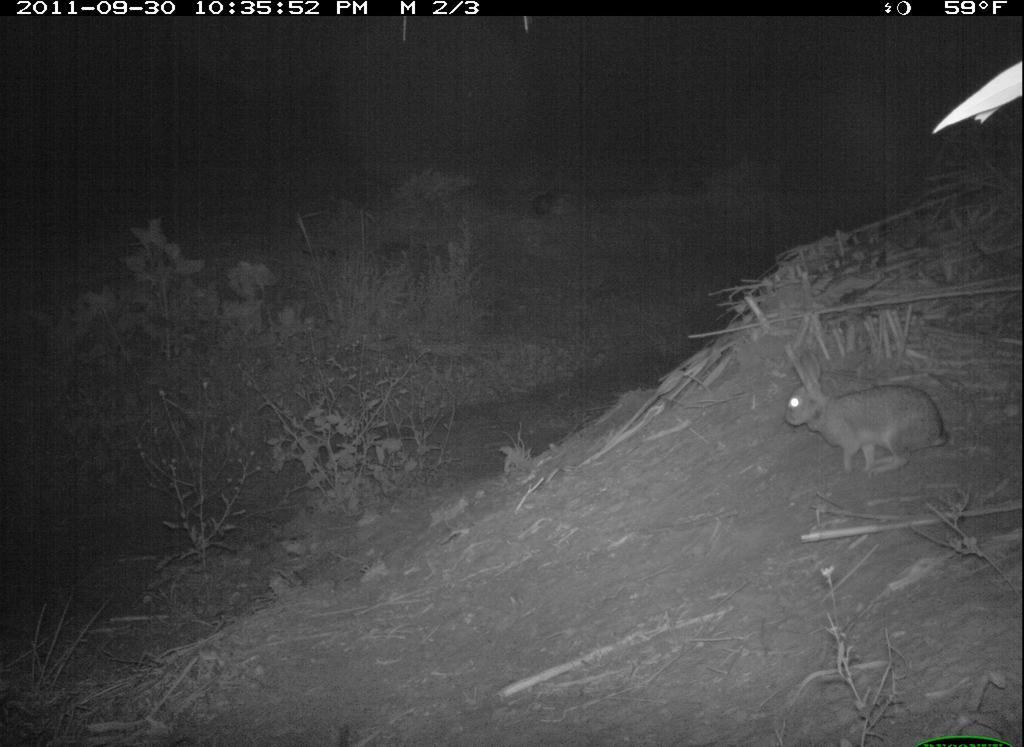rabbit: (780, 338, 952, 478)
